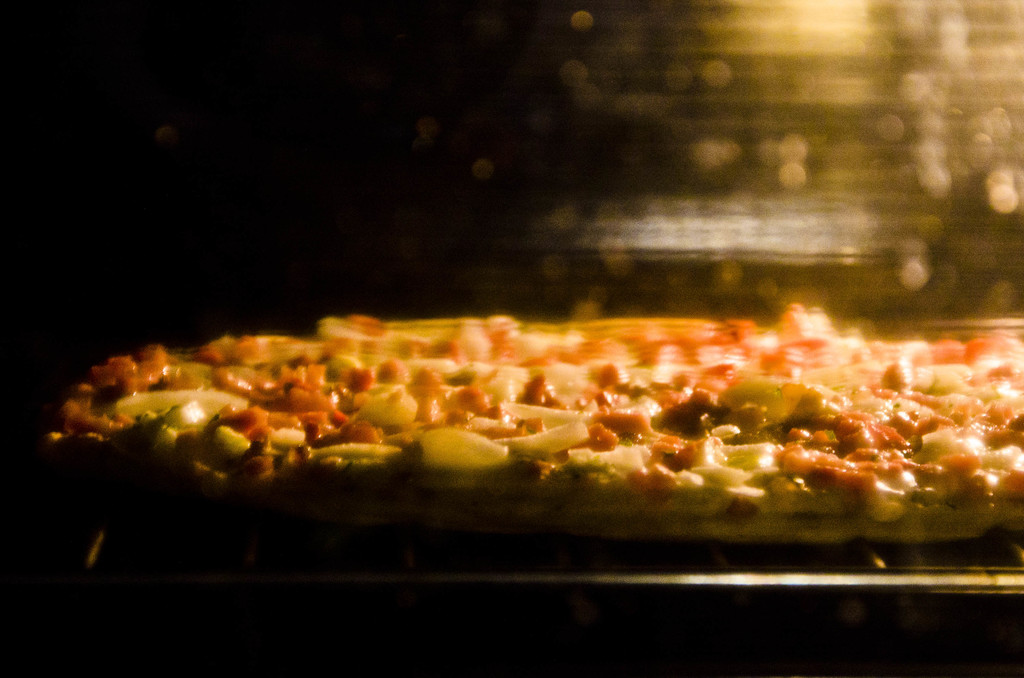Pizza: (56, 302, 1023, 535)
